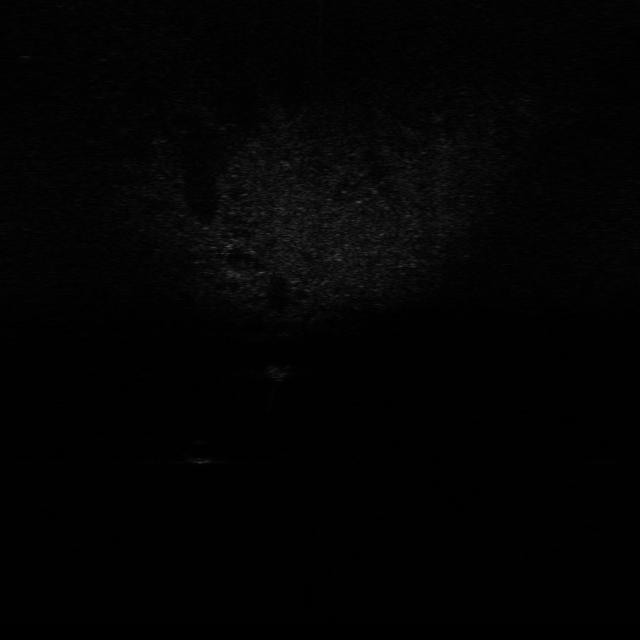ball: (177, 438, 219, 463)
cube: (267, 358, 293, 380)
